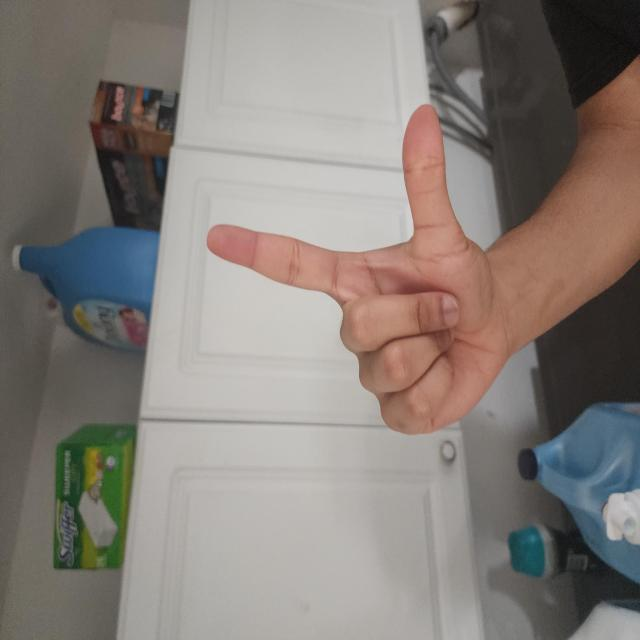L: (147, 268, 404, 640)
